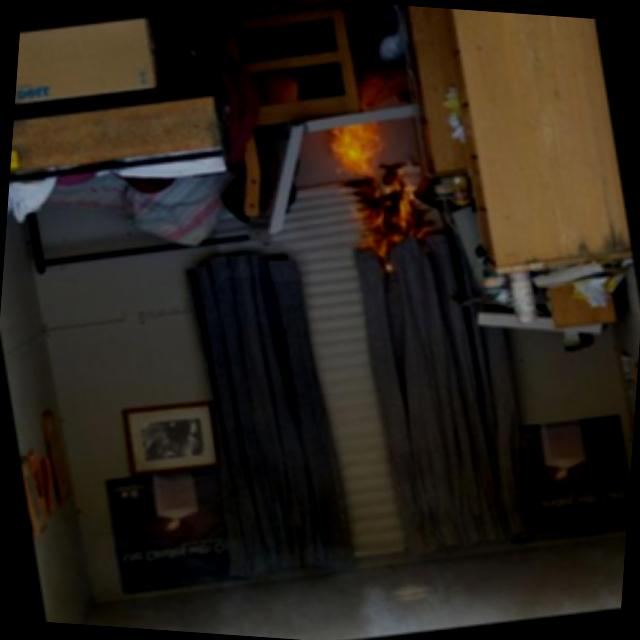fire: (301, 100, 448, 278)
smoke: (52, 490, 626, 640)
